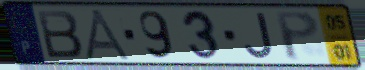3: (181, 8, 225, 63)
9: (138, 9, 175, 61)
A: (83, 7, 136, 62)
B: (34, 9, 85, 60)
J: (243, 11, 277, 61)
P: (272, 9, 322, 63)
